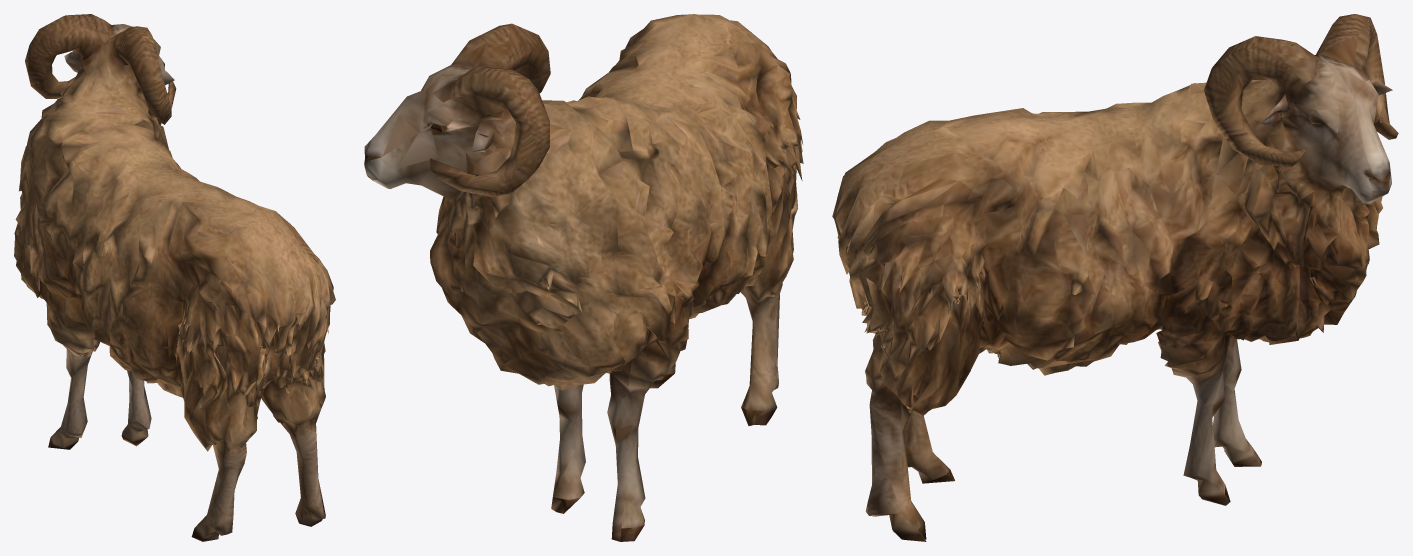
Rendered from montone_lana_lod.gltf.
3 views of the same model, side by side, from view 1: azimuth 30°, elevation 25°; view 2: azimuth 150°, elevation 25°; view 3: azimuth 270°, elevation 25° (orthographic). The views are drawn at different scales.
Parts seen in each view (by area): view 1: animal; view 2: animal; view 3: animal.
Part boxes in pixels (left/top/right/bottom): animal: left=14, top=14, right=335, bottom=541; animal: left=364, top=14, right=803, bottom=541; animal: left=832, top=14, right=1398, bottom=541.
Bounding box in the file's own units: 0.4883 × 0.9514 × 1.
1 material, 1 textured.
